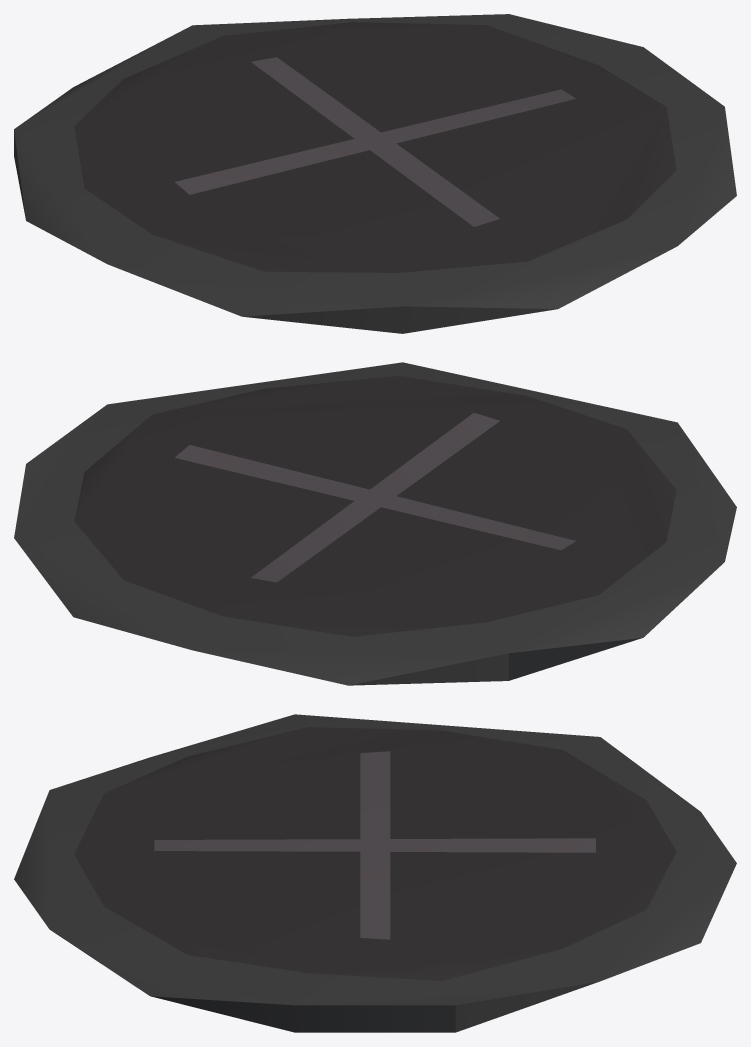
Rendered from detail_manhole.glb.
3 renders of one model, top to bottom at view 1: azimuth 30°, elevation 25°; view 2: azimuth 150°, elevation 25°; view 3: azimuth 270°, elevation 25°, orthographic.
Parts seen in each view (by area): view 1: detail_manhole_LOD0; view 2: detail_manhole_LOD0; view 3: detail_manhole_LOD0.
Boxes of the visible parts, x1,y1,x2,y2 form: detail_manhole_LOD0: [14, 14, 736, 333]; detail_manhole_LOD0: [14, 362, 736, 685]; detail_manhole_LOD0: [14, 714, 736, 1032].
Size of what is drawn, in the model's own units: 0.7021 by 0.043 by 0.7202.
1 material, 1 textured.
